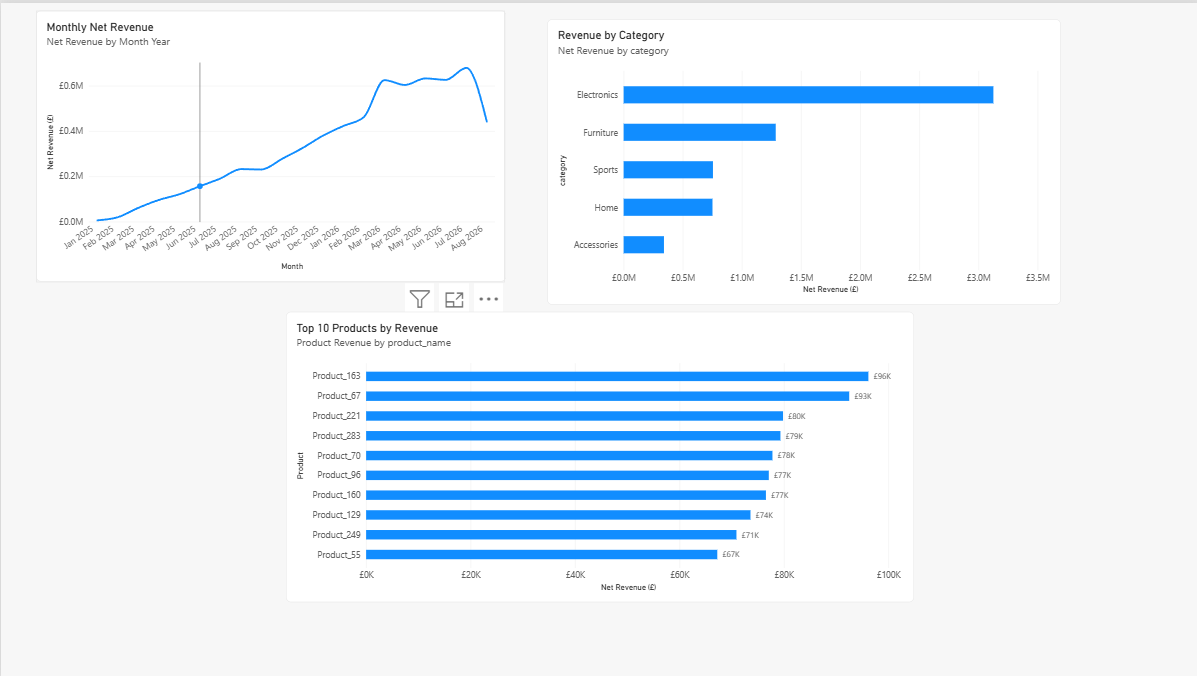

What the dashboard file says about the page in this screenshot:
{"tool":"powerbi","page":{"name":"Revenue & Product","canvas":[1920,1080],"ordinal":1},"visuals":[{"type":"lineChart","title":"Monthly Net Revenue","fields":{"Category":["orders.Month Year"],"Y":["customers.Net Revenue"]},"box":[55,11.7,751.7,433.3],"z":6},{"type":"clusteredBarChart","title":"Revenue by Category","fields":{"Category":["products.category"],"Y":["customers.Net Revenue"]},"box":[873.3,25,821.7,456.7],"z":7},{"type":"clusteredBarChart","title":"Top 10 Products by Revenue","fields":{"Category":["products.product_name"],"Y":["customers.Product Revenue"]},"box":[456.7,493.3,1005,465],"z":9}]}

Visuals, with their boxes in screenshot pixels (x1, y1, x2, y2), scaled from the page's 1920x1080 canvas onto the 1197x676 screenshot:
"Monthly Net Revenue" lineChart: BBox(34, 7, 503, 279)
"Revenue by Category" clusteredBarChart: BBox(544, 16, 1057, 302)
"Top 10 Products by Revenue" clusteredBarChart: BBox(285, 309, 911, 600)
